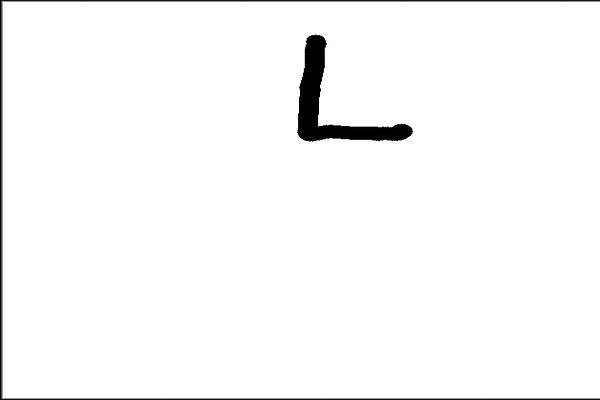L: (289, 29, 415, 147)
